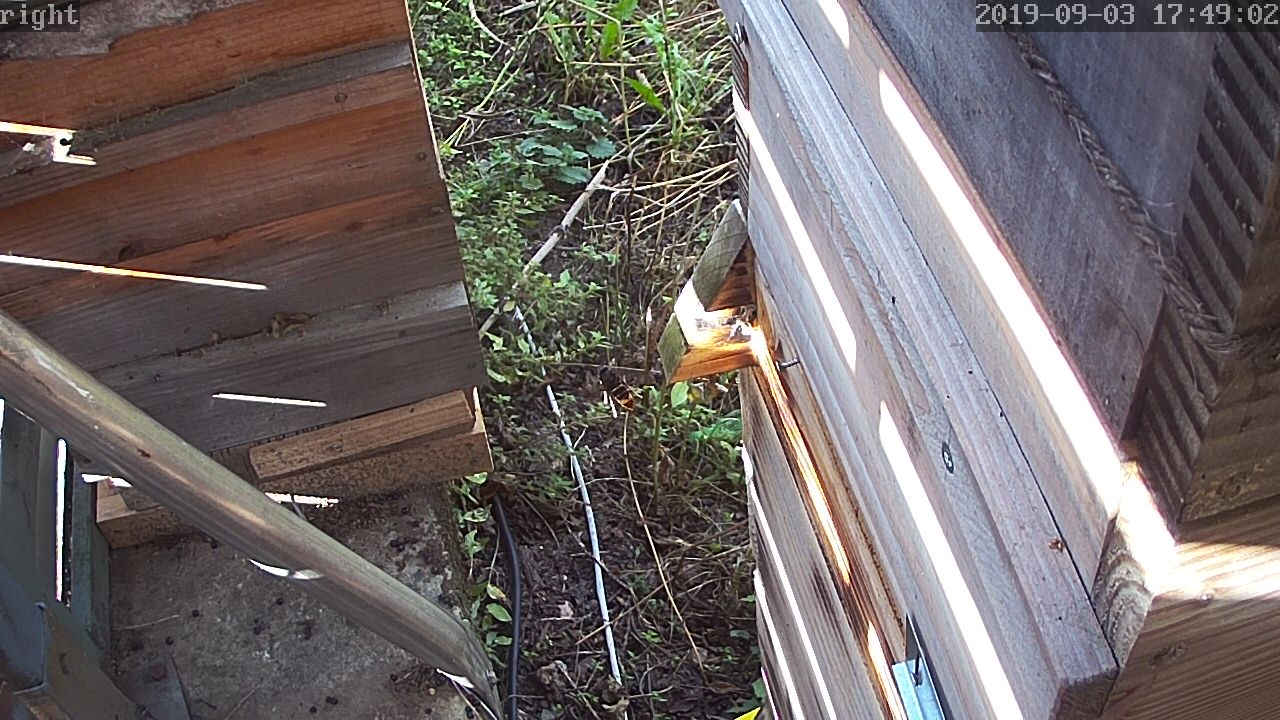hornet: (48, 22, 1254, 720)
